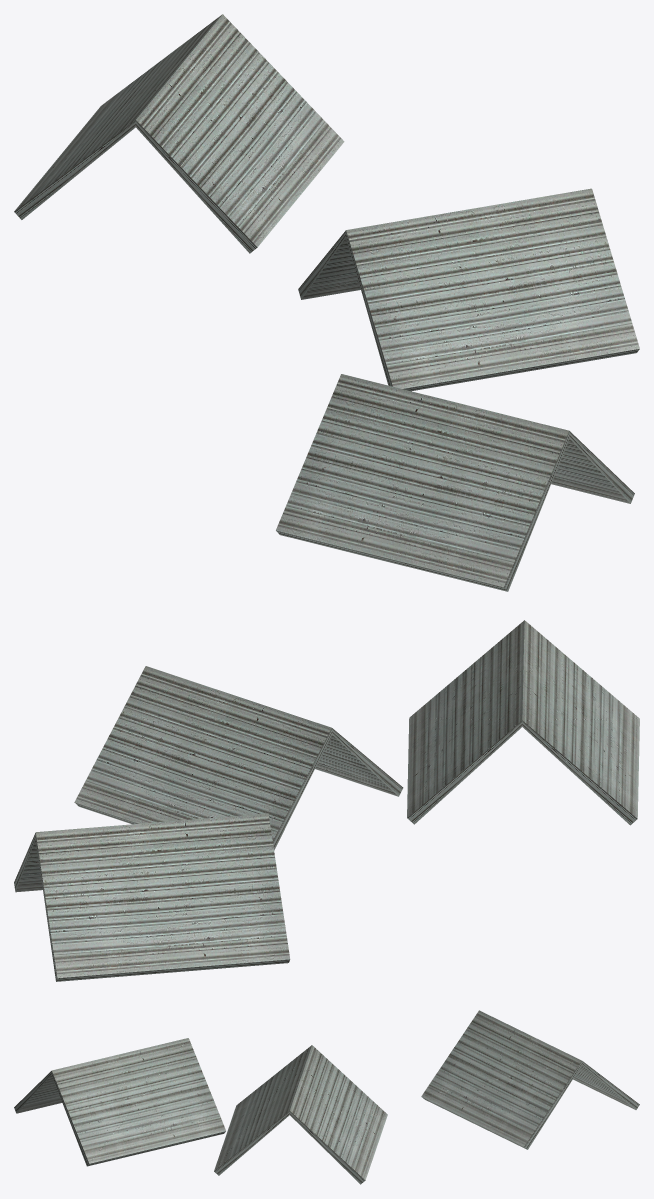
File: wood_cabins_metal.obj
3 views of the same model, one above another, from view 1: azimuth 30°, elevation 25°; view 2: azimuth 150°, elevation 25°; view 3: azimuth 270°, elevation 25° (orthographic). The views are drawn at different scales.
Parts seen in each view (by area): view 1: wood_cabins_metal_Cylinder.004; view 2: wood_cabins_metal_Cylinder.004; view 3: wood_cabins_metal_Cylinder.004.
Boxes of the visible parts, box(x1,y1,x2,y2) form: wood_cabins_metal_Cylinder.004: box(14, 14, 639, 591); wood_cabins_metal_Cylinder.004: box(14, 620, 639, 981); wood_cabins_metal_Cylinder.004: box(14, 1010, 639, 1184).
Size of the model in its own units: 6.94 by 2.7 by 14.11.
Materials: 1 (1 with a texture image).
